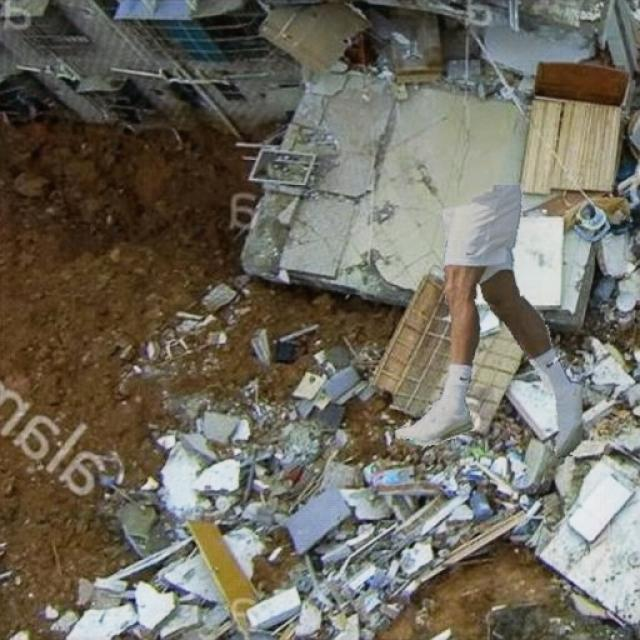Person in Rubble: (394, 185, 582, 458)
